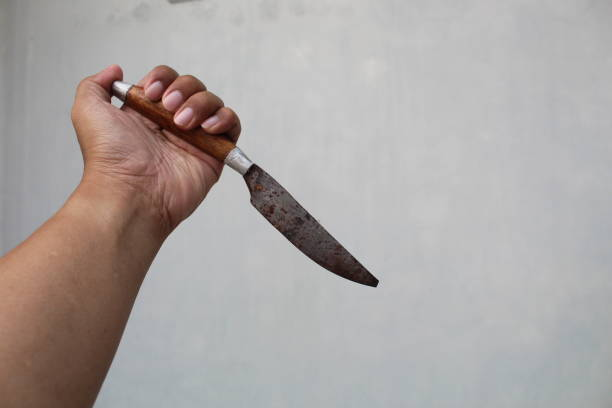knife: (109, 77, 381, 289)
